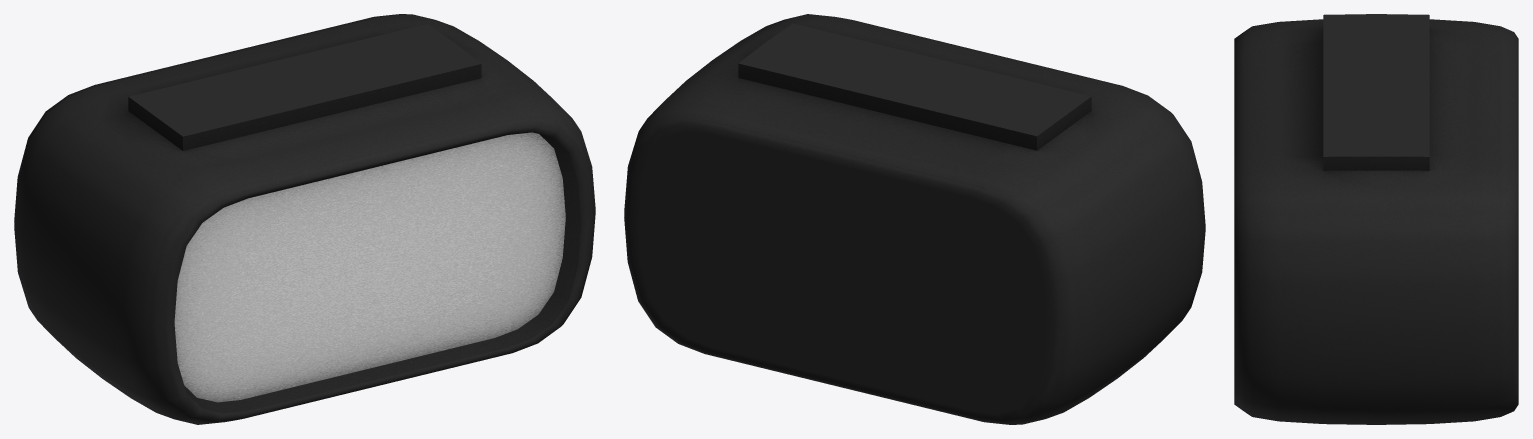
The model's file is Clock.fbx.
3 renders of one model, left to right at view 1: azimuth 30°, elevation 25°; view 2: azimuth 150°, elevation 25°; view 3: azimuth 270°, elevation 25°, orthographic. The views are drawn at different scales.
Visible parts, largest first — view 1: Cube.004; view 2: Cube.004; view 3: Cube.004.
Part boxes in pixels (<box>): Cube.004: <box>14,14,595,424</box>; Cube.004: <box>624,14,1205,424</box>; Cube.004: <box>1234,14,1518,424</box>.
Bounding box in the file's own units: 175 × 93.83 × 93.46.
